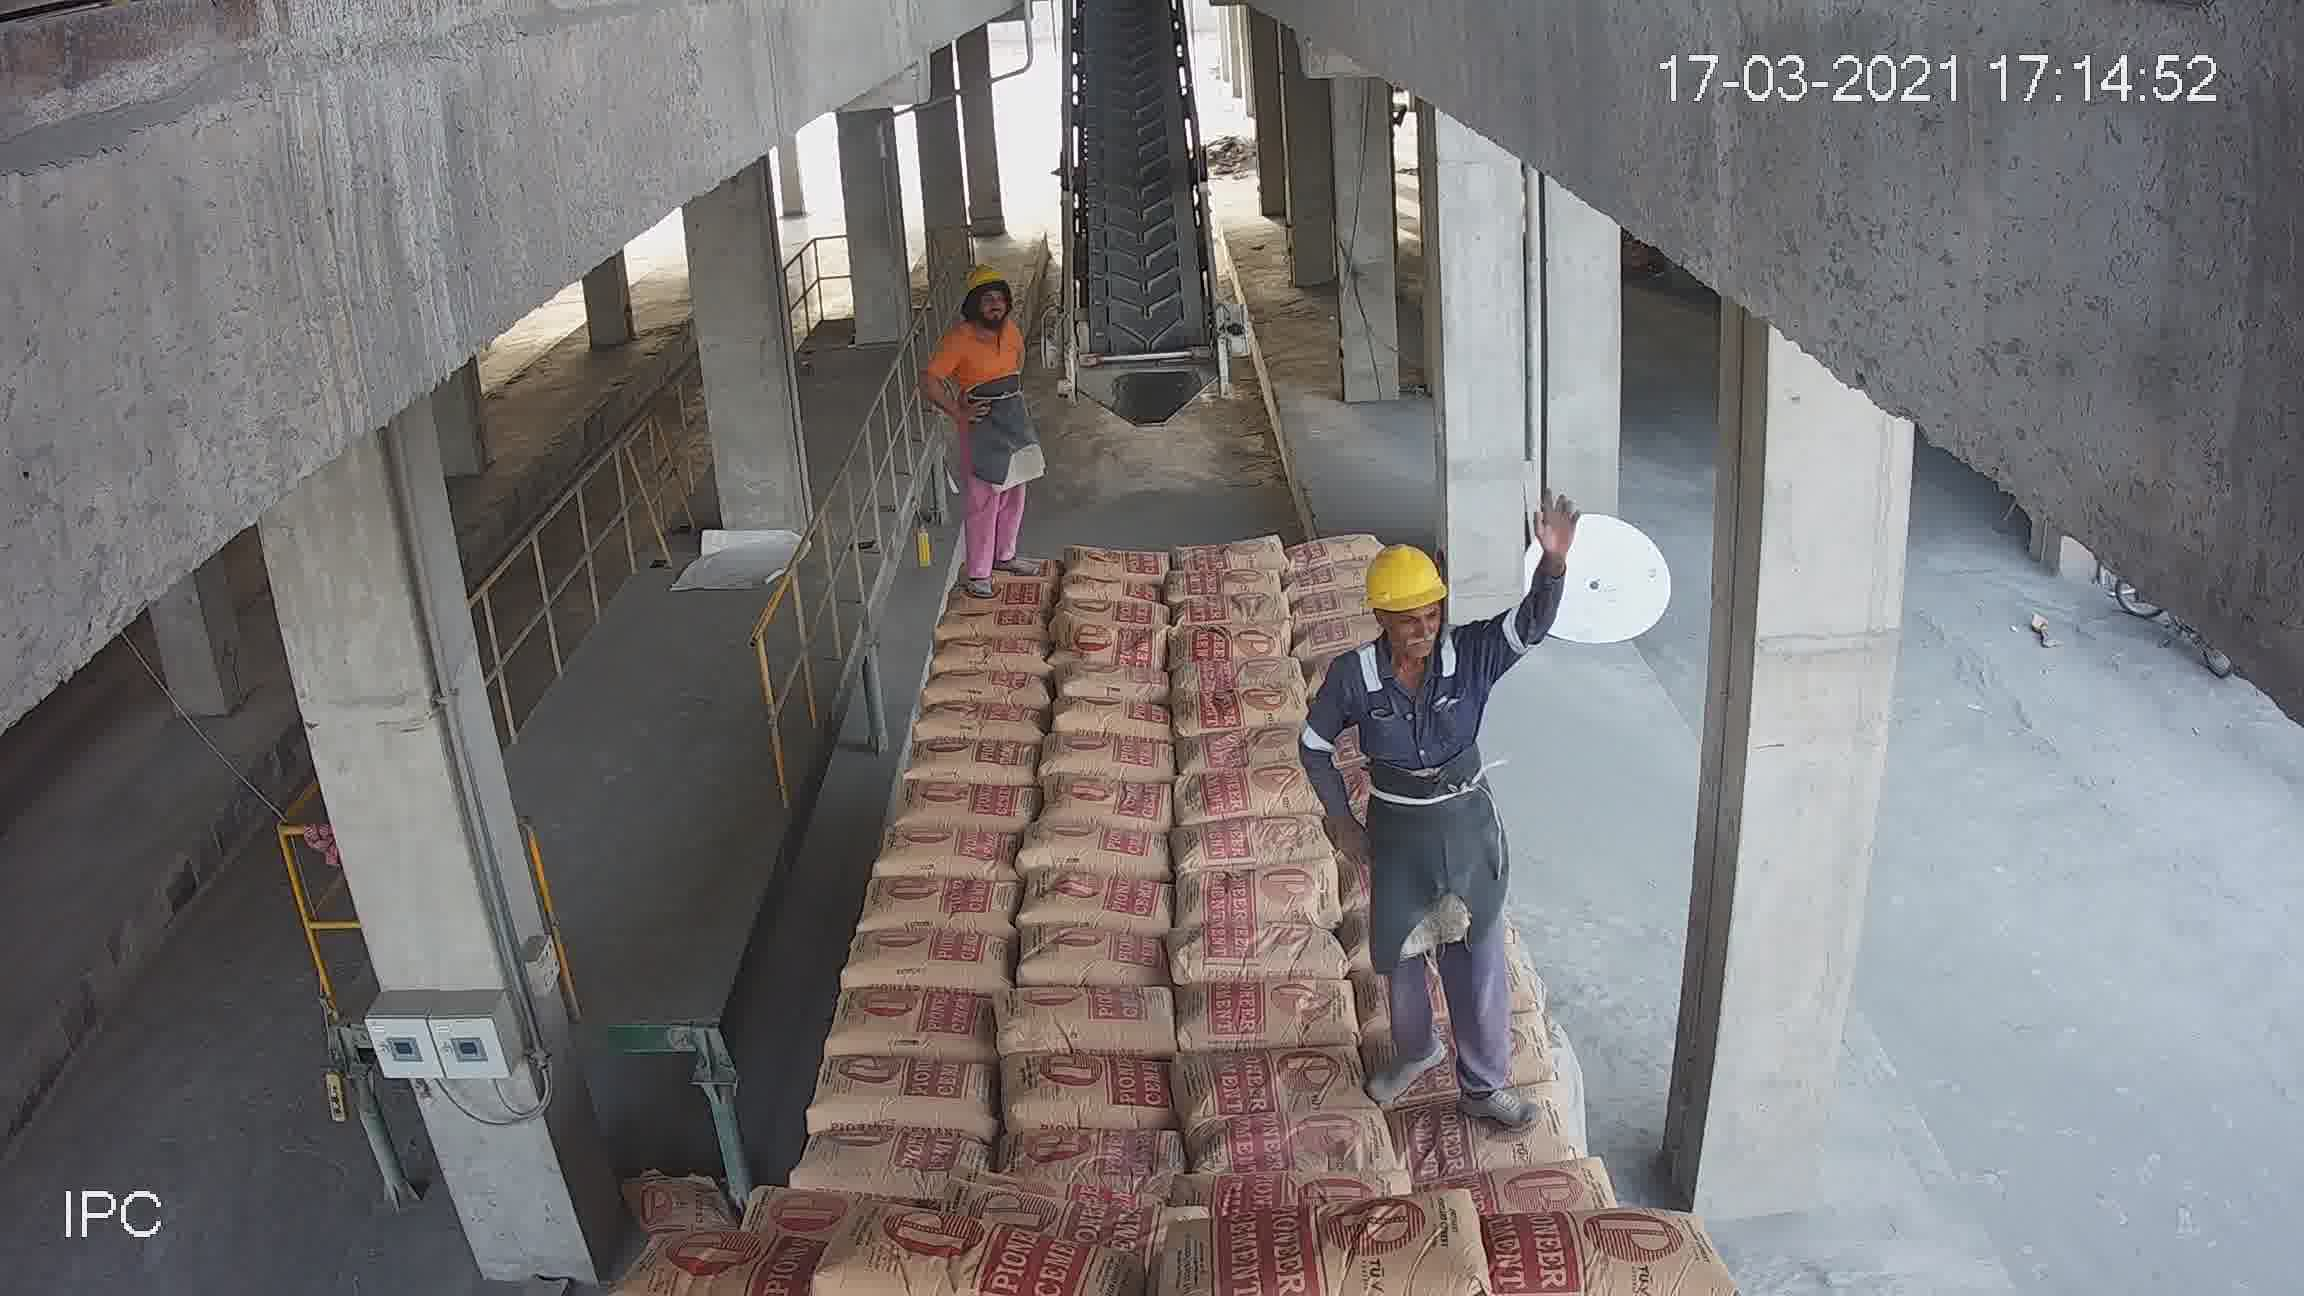bag_h: (1195, 1199, 1524, 1296), (798, 1215, 1128, 1296), (1453, 1207, 1712, 1290), (1199, 1079, 1408, 1171), (1169, 975, 1372, 1054), (805, 1055, 1006, 1135), (824, 980, 1011, 1063), (783, 1124, 1006, 1188), (638, 1226, 847, 1294), (1002, 986, 1188, 1062), (1188, 1109, 1367, 1185), (1011, 1049, 1184, 1127), (855, 870, 1030, 946), (1393, 1109, 1568, 1185), (839, 927, 1013, 994), (1000, 1122, 1182, 1185), (1177, 862, 1337, 934), (1019, 813, 1169, 886), (1180, 926, 1348, 989), (1445, 1163, 1616, 1225), (1013, 932, 1180, 994), (1176, 760, 1324, 828), (1040, 772, 1185, 839), (1177, 812, 1324, 877), (1022, 873, 1180, 932), (892, 782, 1040, 837), (910, 696, 1059, 745), (907, 737, 1041, 790), (911, 663, 1055, 711), (1166, 726, 1305, 775), (875, 832, 1014, 881), (1166, 654, 1304, 703), (1055, 657, 1177, 711), (1176, 687, 1312, 734), (1065, 612, 1165, 673), (1051, 741, 1177, 786), (1051, 696, 1166, 745), (927, 638, 1063, 676), (1171, 620, 1290, 663), (937, 571, 1049, 616), (932, 604, 1051, 646), (1274, 555, 1377, 603), (1287, 516, 1397, 559), (1173, 525, 1291, 562), (1059, 598, 1176, 633), (1071, 541, 1171, 581), (1173, 593, 1290, 627), (1173, 567, 1283, 601), (1054, 571, 1165, 604)
belt: (1059, 3, 1218, 396)
